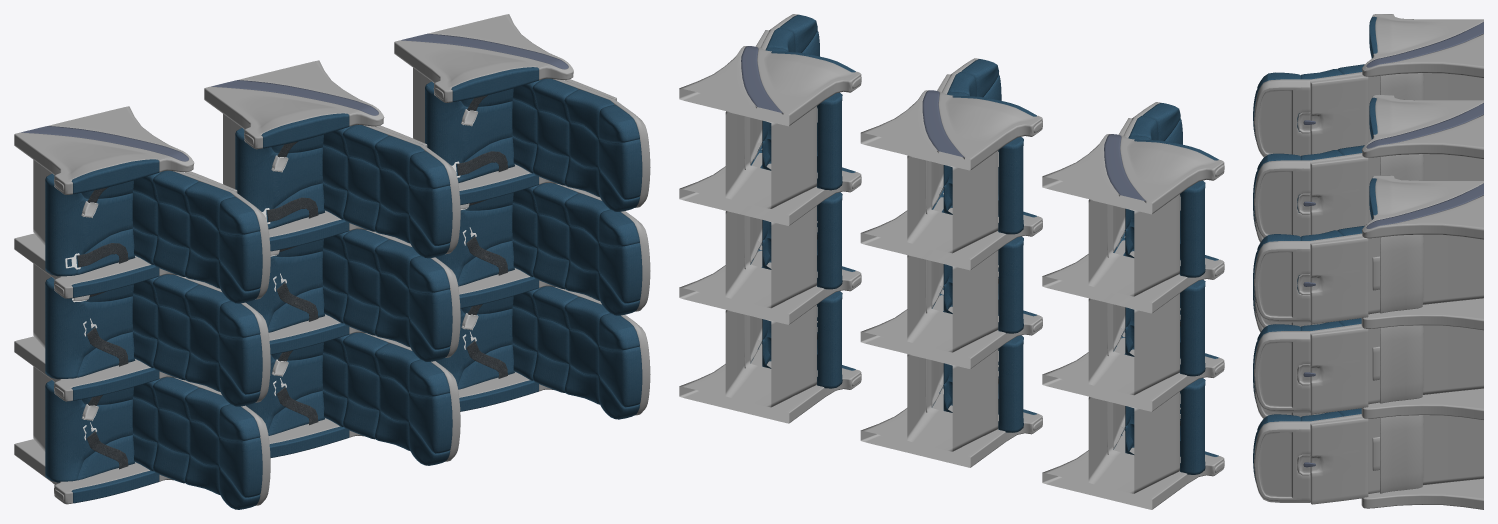
File: aircraft_seats.obj
3 renders of one model, left to right at view 1: azimuth 30°, elevation 25°; view 2: azimuth 150°, elevation 25°; view 3: azimuth 270°, elevation 25°, orthographic. The views are drawn at different scales.
Parts seen in each view (by area): view 1: aircraft_seats; view 2: aircraft_seats; view 3: aircraft_seats.
Part boxes in pixels (box(x1,y1,x2,y2)): aircraft_seats: box(14, 14, 650, 509); aircraft_seats: box(679, 14, 1224, 509); aircraft_seats: box(1253, 14, 1483, 509).
Bounding box in the file's own units: 27.36 × 16.59 × 12.14.
